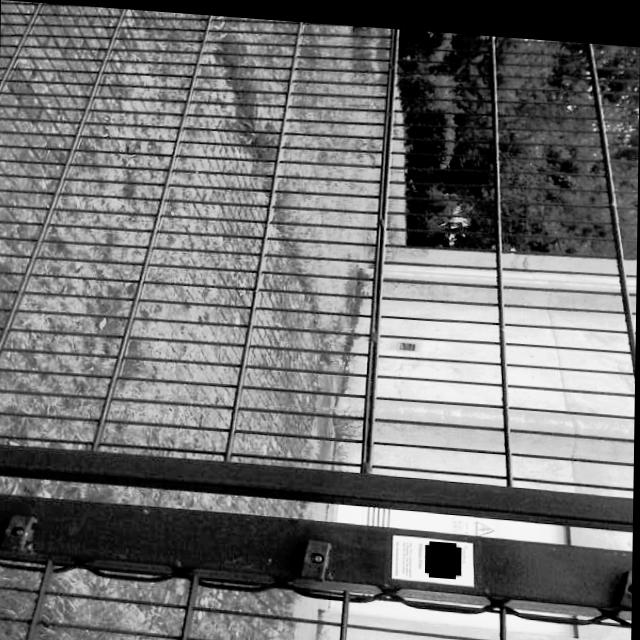qr_code: (428, 536, 460, 570)
